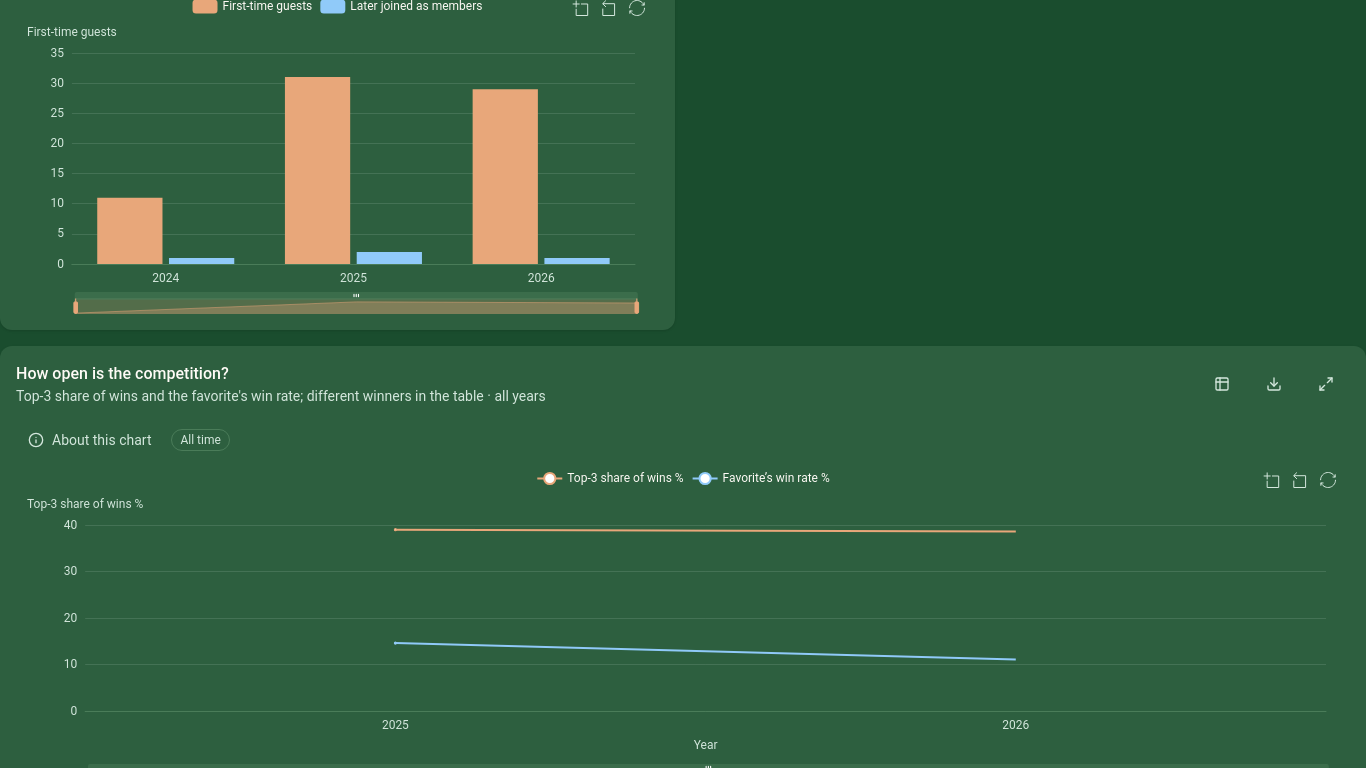
Test case: ClubPage › a view toggle on one chart does not rebuild the other charts
The width and height of the screenshot is (1366, 768).
(page scrolled)
Click the button named "Table" at x=1222, y=384, box [1198, 362, 1246, 406]
(page scrolled)
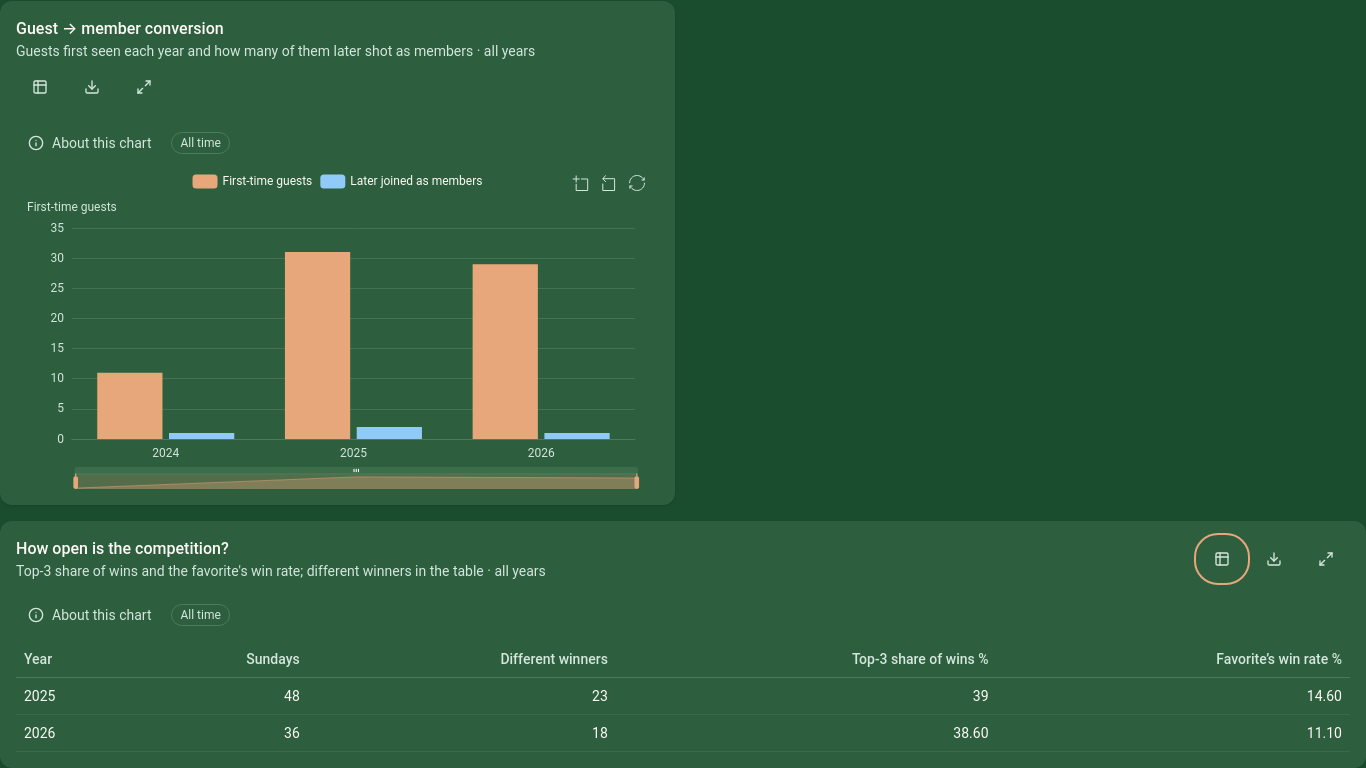
Now the table named "How open is the competition?" is shown, box [16, 641, 1350, 752]
